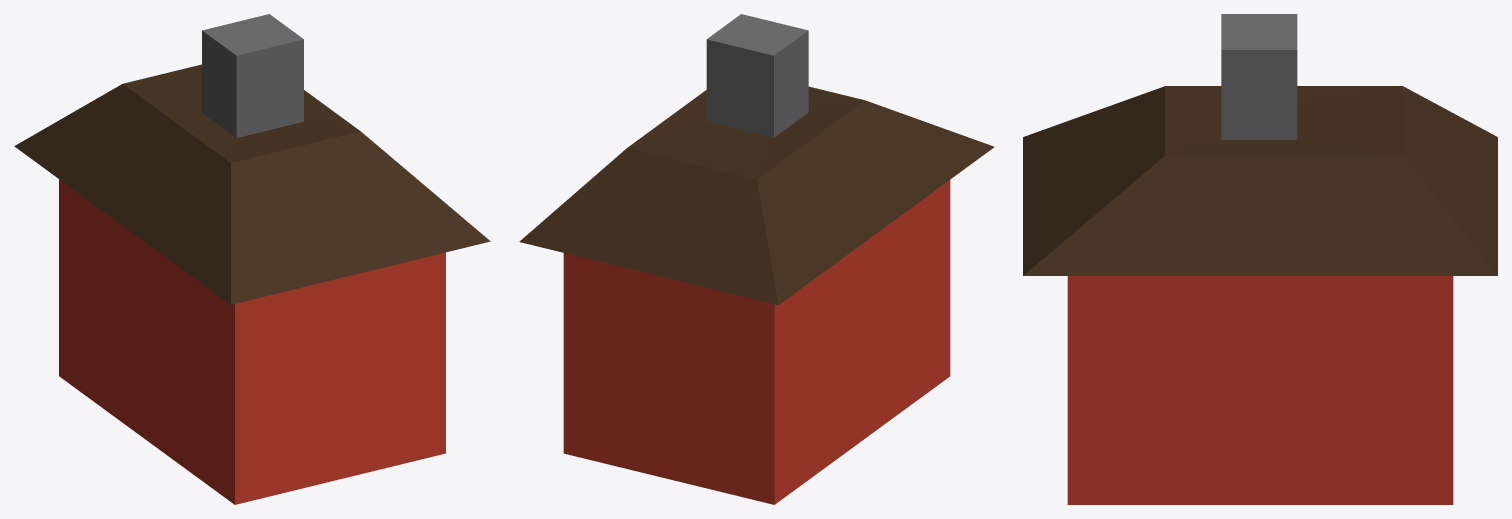
File: house.fbx
3 views of the same model, side by side, from view 1: azimuth 30°, elevation 25°; view 2: azimuth 150°, elevation 25°; view 3: azimuth 270°, elevation 25° (orthographic). The views are drawn at different scales.
Parts seen in each view (by area): view 1: Cube; view 2: Cube; view 3: Cube.
Part boxes in pixels (bbox=[...]): Cube: bbox=[14, 14, 490, 504]; Cube: bbox=[519, 14, 994, 504]; Cube: bbox=[1023, 14, 1497, 504].
Bounding box in the file's own units: 246 × 344 × 356.
